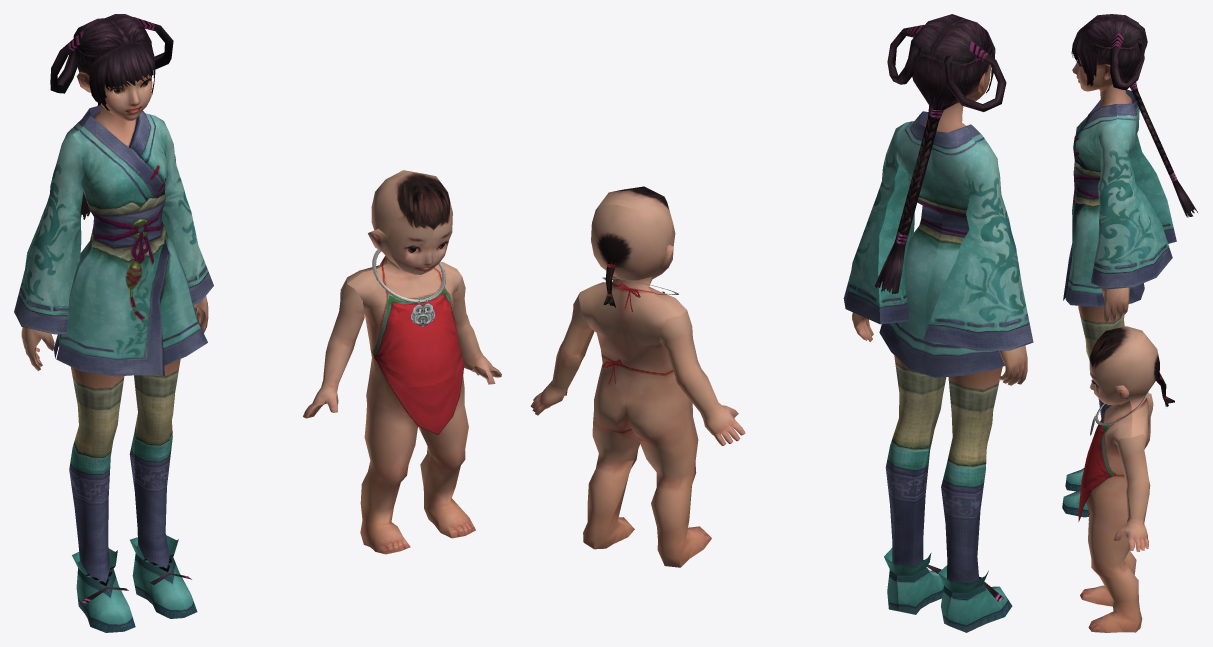
Rendered from XiaoHai02.FBX.
The picture shows the model from 3 angles, left to right: view 1: azimuth 30°, elevation 25°; view 2: azimuth 150°, elevation 25°; view 3: azimuth 270°, elevation 25°; orthographic projection. The views are drawn at different scales.
Visible parts, largest first — view 1: DrawCall_0974, DrawCall_0945, DrawCall_0628; view 2: DrawCall_0974, DrawCall_0945, DrawCall_0628; view 3: DrawCall_0974, DrawCall_0945, DrawCall_0628.
Part boxes in pixels (box(x1,y1,x2,y2)): DrawCall_0974: box(14, 104, 213, 632); DrawCall_0945: box(303, 170, 501, 554); DrawCall_0628: box(50, 14, 173, 219); DrawCall_0974: box(843, 103, 1033, 632); DrawCall_0945: box(530, 186, 745, 567); DrawCall_0628: box(875, 14, 1006, 293); DrawCall_0974: box(1062, 84, 1176, 517); DrawCall_0945: box(1078, 326, 1174, 632); DrawCall_0628: box(1071, 14, 1197, 217).
Size of the model in its own units: 105 by 123 by 31.5.
